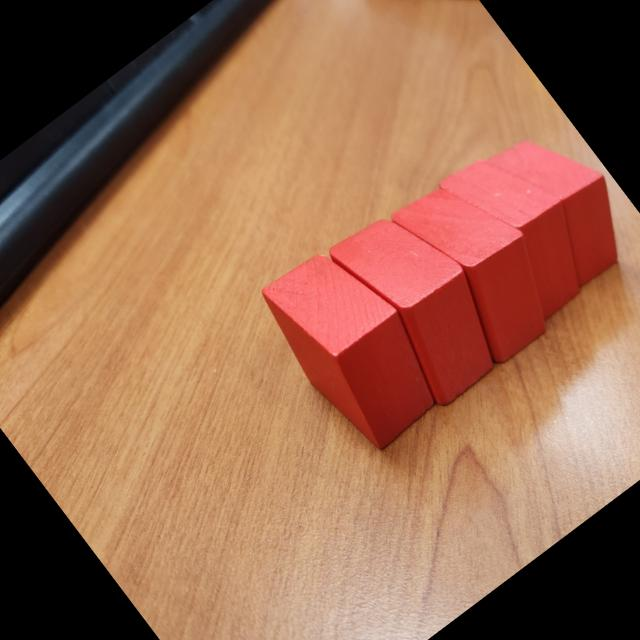red: (243, 228, 462, 464), (323, 190, 525, 411), (384, 157, 579, 370), (436, 129, 615, 325), (485, 110, 640, 288)
